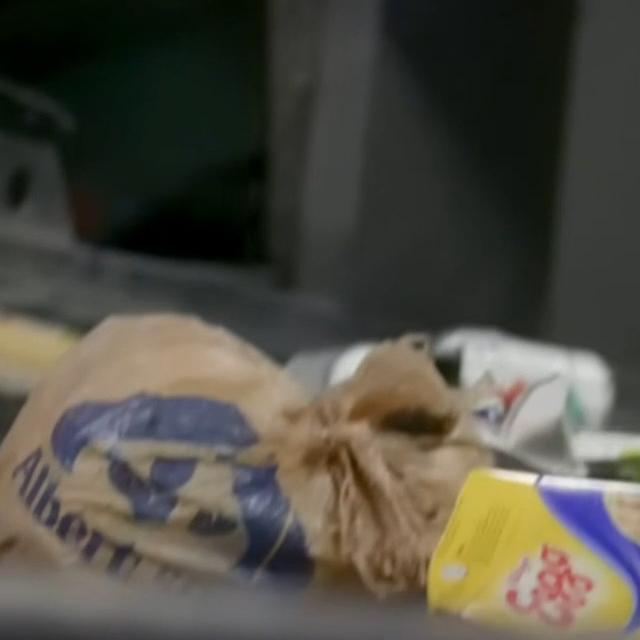paper: (404, 417, 640, 640)
plastic: (0, 293, 490, 640)
